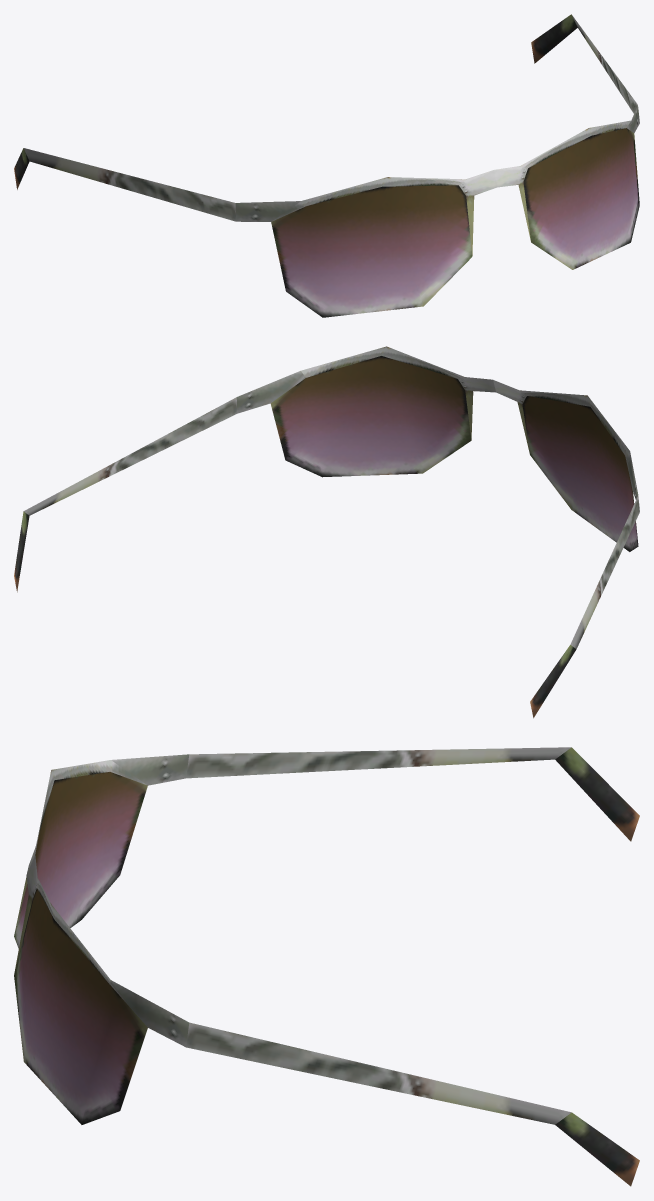
Rendered from Glasses2.glb.
3 renders of one model, top to bottom at view 1: azimuth 30°, elevation 25°; view 2: azimuth 150°, elevation 25°; view 3: azimuth 270°, elevation 25°, orthographic. The views are drawn at different scales.
Visible parts, largest first — view 1: Glasses2; view 2: Glasses2; view 3: Glasses2.
Boxes of the visible parts, <box> form: Glasses2: <box>14,14,639,317</box>; Glasses2: <box>14,346,639,718</box>; Glasses2: <box>14,747,639,1186</box>.
Bounding box in the file's own units: 9.76 × 2.31 × 7.07.
1 material, 1 textured.
